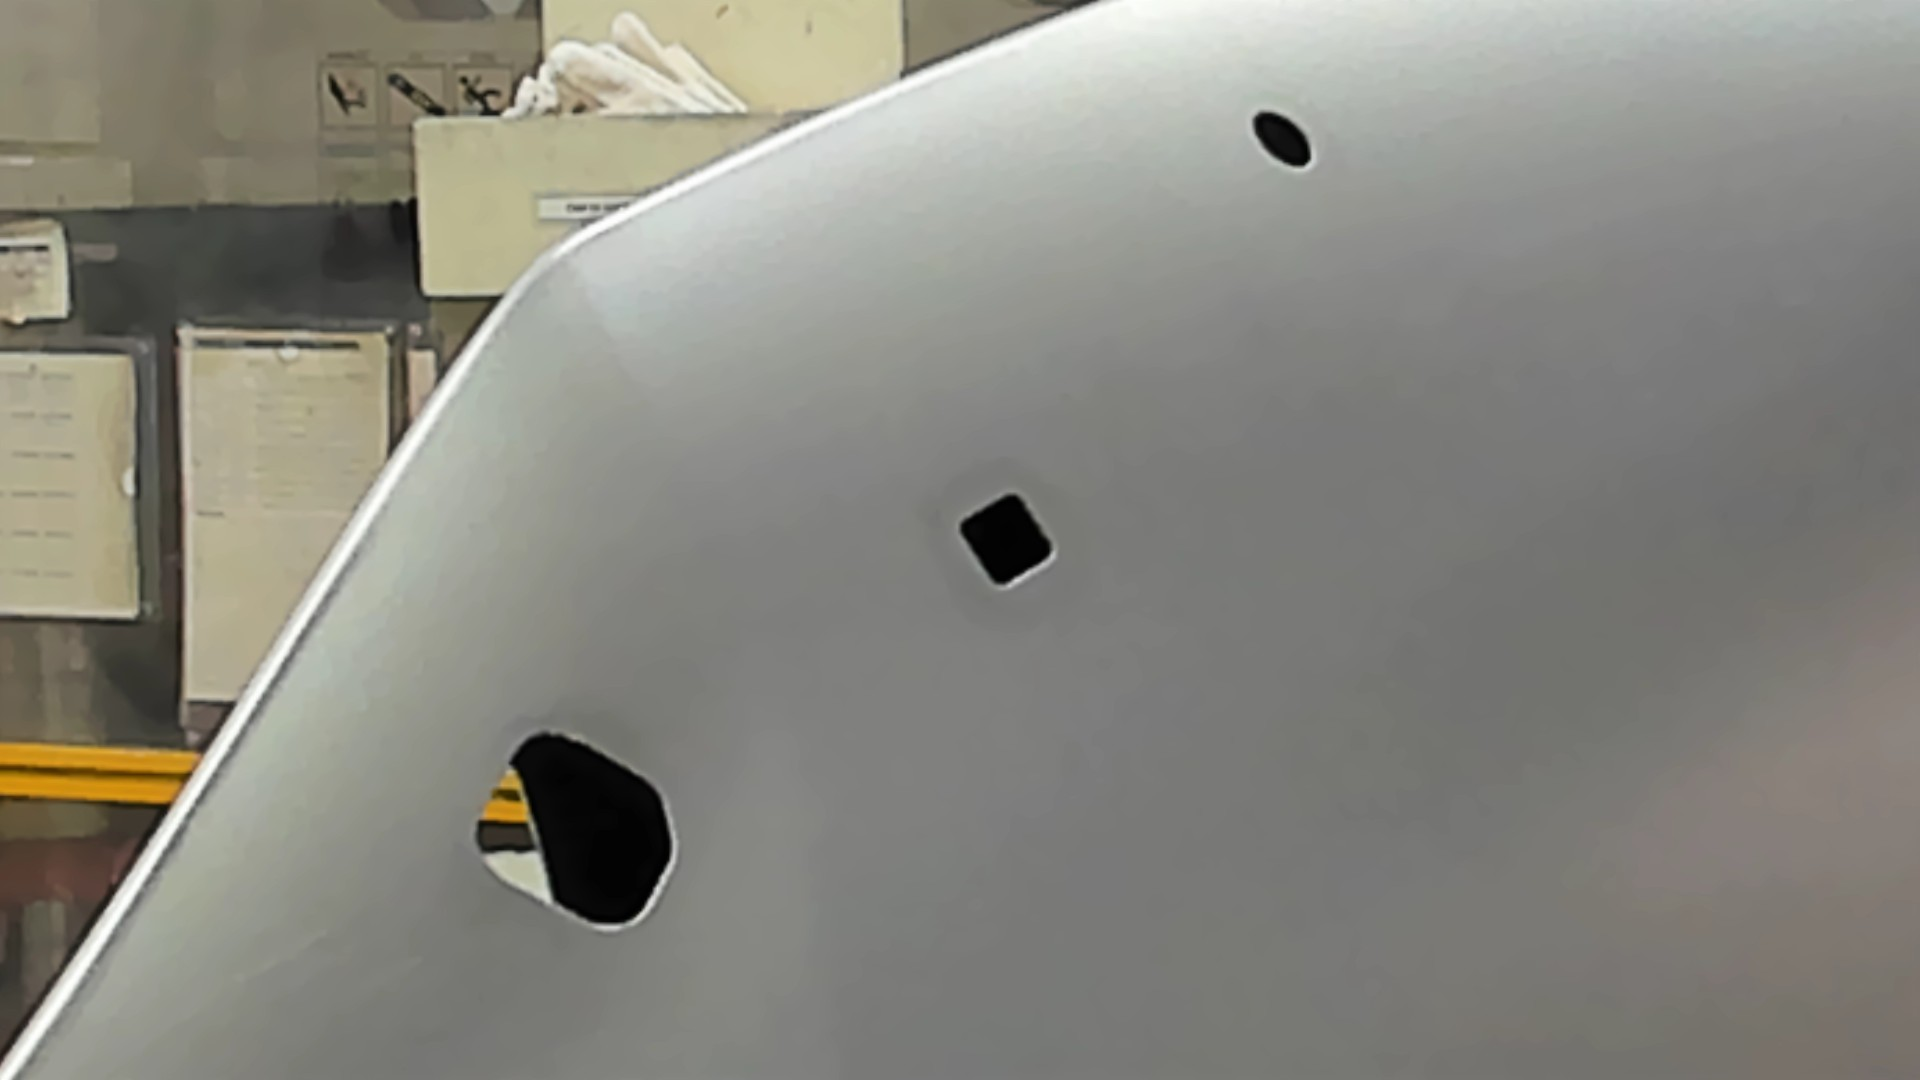capo: (1069, 174, 1920, 1080)
chico: (1245, 104, 1317, 175)
grande: (469, 727, 682, 938)
mediano: (952, 487, 1064, 593)
